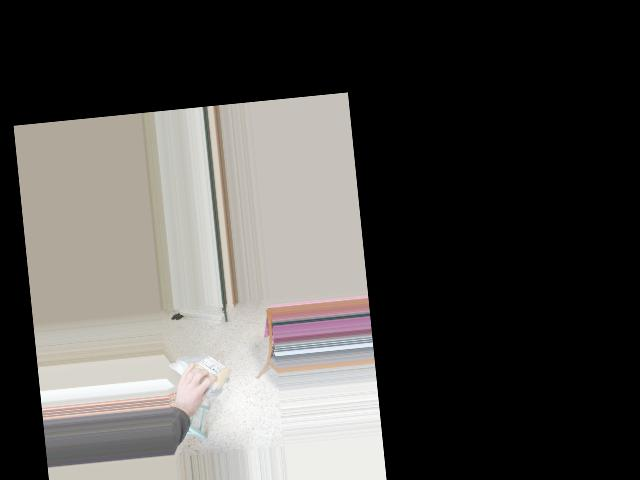cheese: (168, 352, 239, 388)
